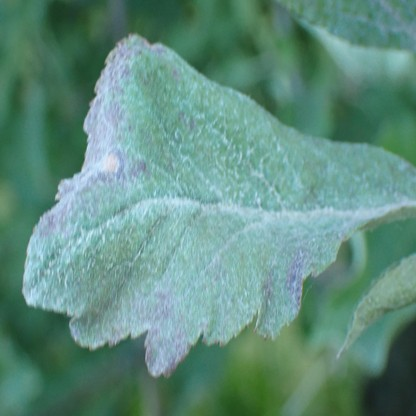powder: (22, 33, 416, 378), (337, 255, 416, 359), (276, 1, 416, 50)
rust: (100, 153, 118, 171)
